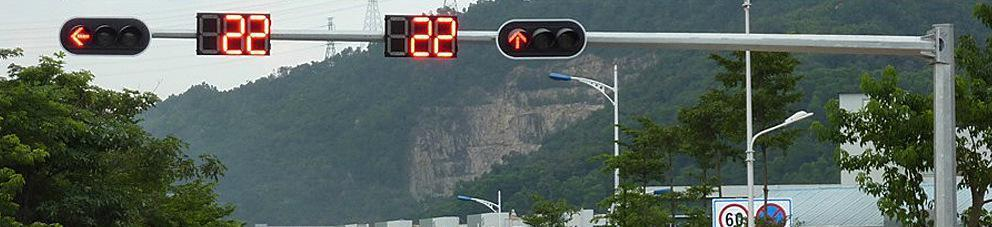red: (491, 14, 594, 62), (58, 14, 149, 60)
